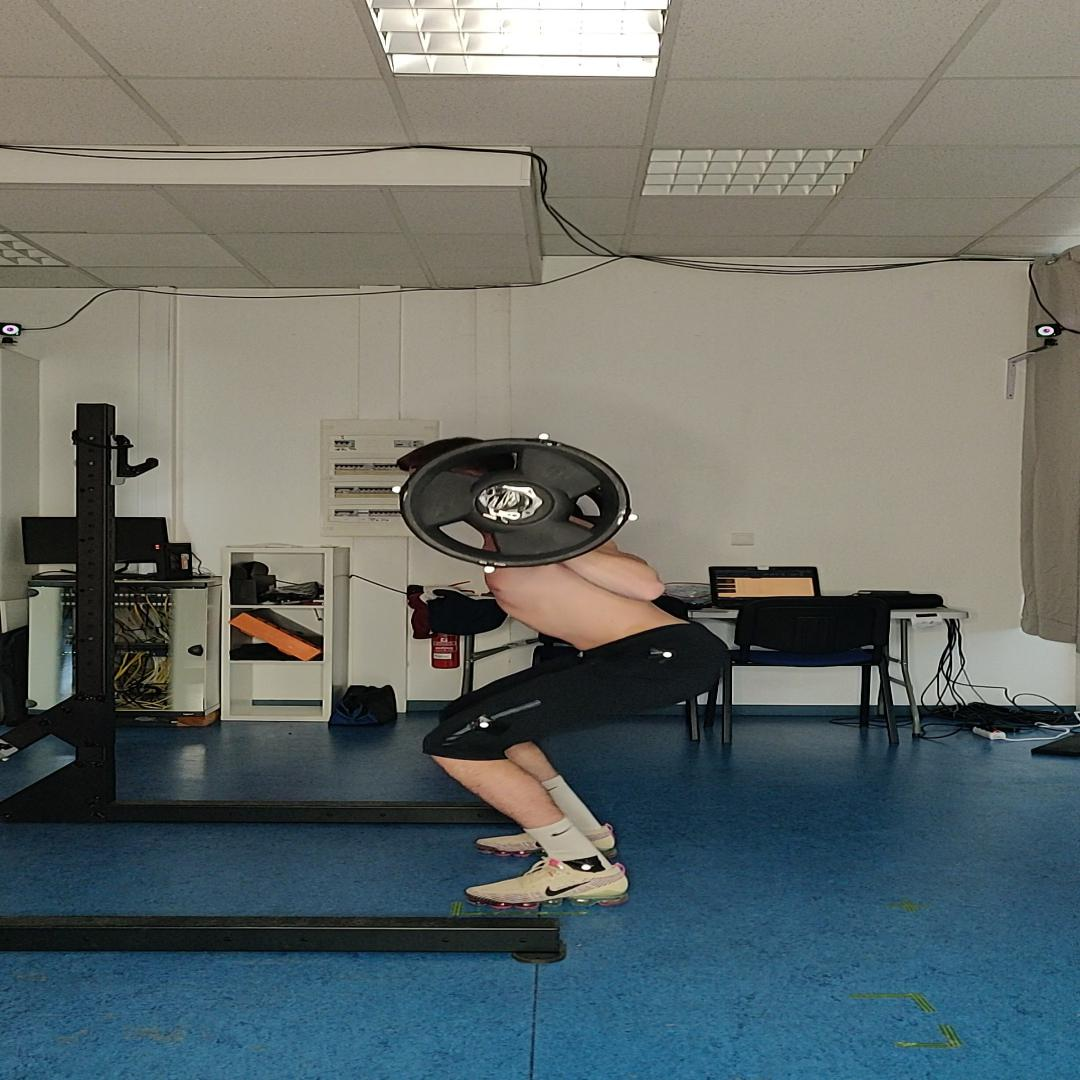Bar: (479, 486, 520, 510)
Barbell: (399, 438, 631, 568)
